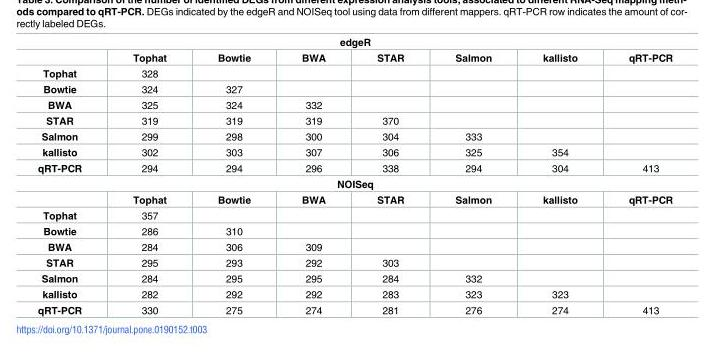table: (36, 37, 672, 315)
table column: (429, 37, 516, 315), (516, 37, 602, 315), (106, 37, 191, 315), (191, 37, 275, 315), (350, 37, 429, 315), (275, 37, 350, 315), (36, 37, 106, 315), (602, 37, 672, 315)
table projected row header: (36, 176, 672, 192), (36, 37, 672, 49)
table row: (36, 49, 672, 65), (36, 65, 672, 81), (36, 81, 672, 97), (36, 97, 672, 113), (36, 128, 672, 144), (36, 144, 672, 160), (36, 160, 672, 176), (36, 176, 672, 192), (36, 207, 672, 223), (36, 223, 672, 239), (36, 239, 672, 255), (36, 270, 672, 286), (36, 286, 672, 302), (36, 113, 672, 128), (36, 192, 672, 207), (36, 255, 672, 270), (36, 302, 672, 315), (36, 37, 672, 49)
